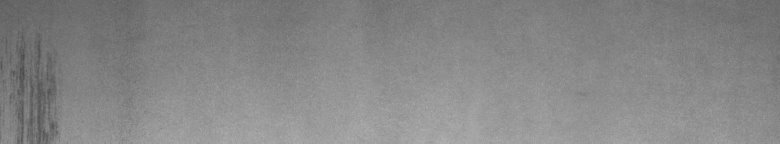ka: (5, 36, 64, 136)
